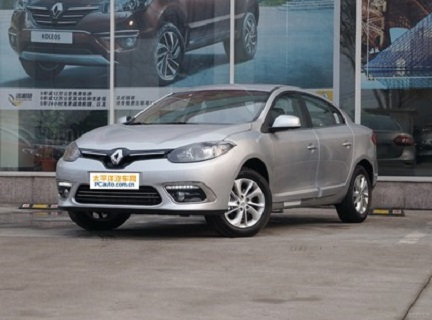雷诺-风朗: (49, 84, 386, 239)
